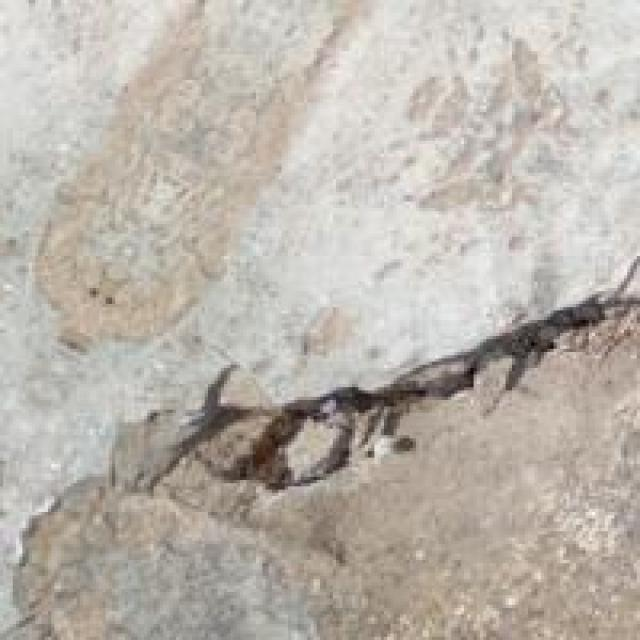crack: (179, 221, 634, 563)
